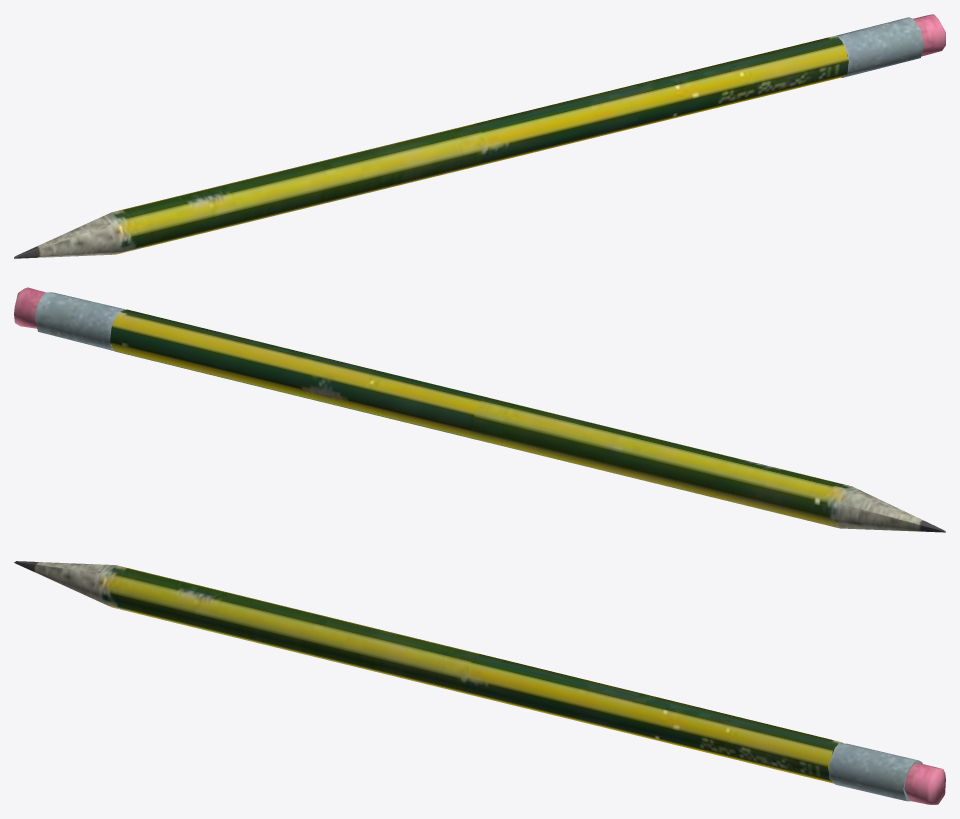
Rendered from pencil.glb.
The picture shows the model from 3 angles, top to bottom: view 1: azimuth 30°, elevation 25°; view 2: azimuth 150°, elevation 25°; view 3: azimuth 330°, elevation 25°; orthographic projection.
Visible parts, largest first — view 1: stationery_supplies_pencil_new_a; view 2: stationery_supplies_pencil_new_a; view 3: stationery_supplies_pencil_new_a.
Boxes of the visible parts, bbox=[...] form: stationery_supplies_pencil_new_a: bbox=[14, 14, 945, 258]; stationery_supplies_pencil_new_a: bbox=[14, 287, 945, 532]; stationery_supplies_pencil_new_a: bbox=[14, 561, 945, 804].
Size of the model in its own units: 0.1937 by 0.00792 by 0.00792.
Materials: 1 (1 with a texture image).
